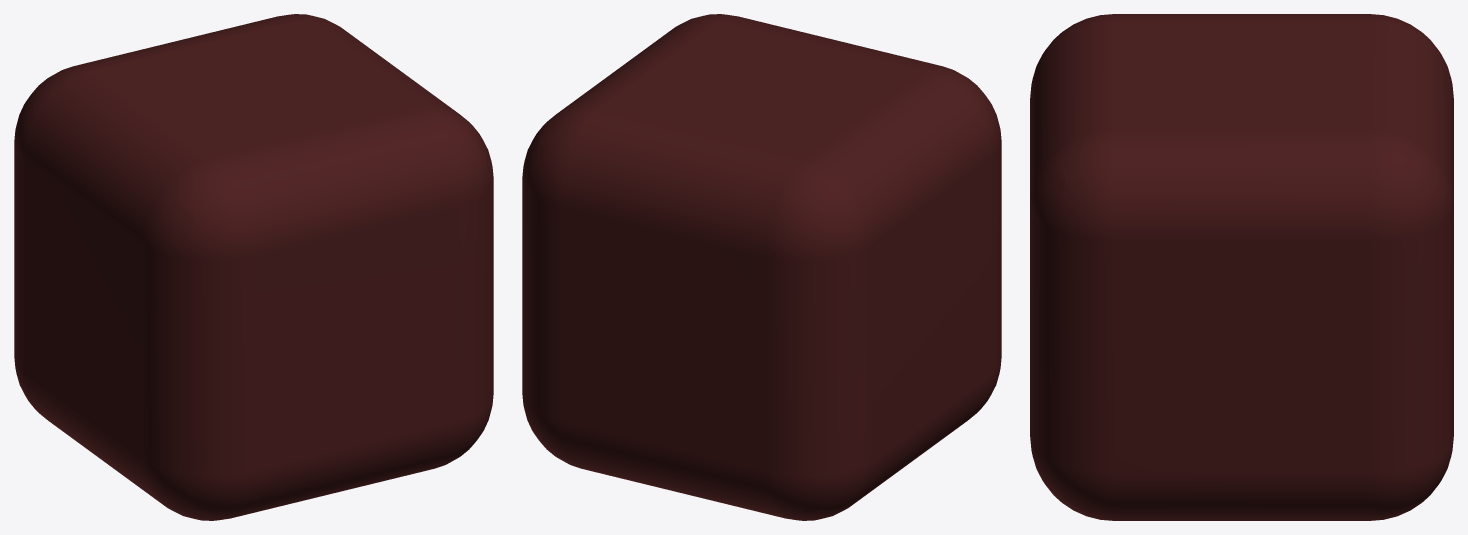
File: Slime_dark.fbx
The picture shows the model from 3 angles, left to right: view 1: azimuth 30°, elevation 25°; view 2: azimuth 150°, elevation 25°; view 3: azimuth 270°, elevation 25°; orthographic projection. The views are drawn at different scales.
Parts seen in each view (by area): view 1: pCube1; view 2: pCube1; view 3: pCube1.
Boxes of the visible parts, <box> form: pCube1: <box>14,14,493,520</box>; pCube1: <box>522,14,1001,520</box>; pCube1: <box>1030,14,1453,520</box>.
Size of the model in its own units: 1 by 1 by 1.
